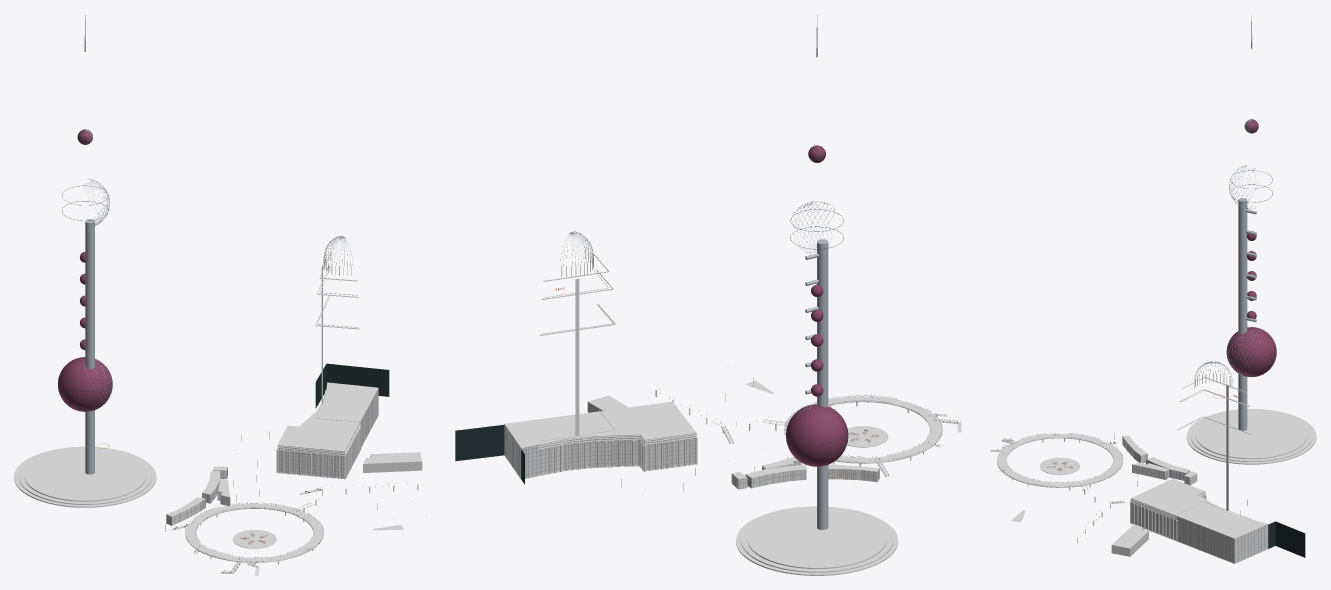
The picture shows the model from 3 angles, left to right: view 1: azimuth 30°, elevation 25°; view 2: azimuth 150°, elevation 25°; view 3: azimuth 270°, elevation 25°; orthographic projection. The views are drawn at different scales.
Parts seen in each view (by area): view 1: 0_-1_滨江浅灰石材, 0_-1_v02 深灰屋面, 0_-1_v02 米白石材, 0_-1_珍珠白 · 混凝土, 0_-1_球面 · 紫灰玻璃, 0_-1_v04 平安玫瑰白麻石, 0_-1_步行桥面 · 7m, 0_-1_v04 平安深色窗, 0_-1_v02 铝合金幕墙框, 0_-1_v02 草地, 0_-1_桥栏杆银灰; view 2: 0_-1_滨江浅灰石材, 0_-1_v02 米白石材, 0_-1_v02 深灰屋面, 0_-1_v04 平安玫瑰白麻石, 0_-1_球面 · 紫灰玻璃, 0_-1_珍珠白 · 混凝土, 0_-1_v02 铝合金幕墙框, 0_-1_步行桥面 · 7m, 0_-1_v04 平安深色窗, 0_-1_v02 草地; view 3: 0_-1_滨江浅灰石材, 0_-1_v02 米白石材, 0_-1_v02 深灰屋面, 0_-1_珍珠白 · 混凝土, 0_-1_球面 · 紫灰玻璃, 0_-1_v04 平安玫瑰白麻石, 0_-1_步行桥面 · 7m, 0_-1_v02 铝合金幕墙框, 0_-1_v04 平安深色窗, 0_-1_v02 草地, 0_-1_桥栏杆银灰.
Part boxes in pixels (<box>): 0_-1_滨江浅灰石材: <box>14,446,276,548</box>; 0_-1_v02 深灰屋面: <box>167,382,421,516</box>; 0_-1_v02 米白石材: <box>166,388,422,525</box>; 0_-1_珍珠白 · 混凝土: <box>83,15,112,474</box>; 0_-1_球面 · 紫灰玻璃: <box>58,129,112,411</box>; 0_-1_v04 平安玫瑰白麻石: <box>276,251,361,479</box>; 0_-1_步行桥面 · 7m: <box>185,503,323,562</box>; 0_-1_v04 平安深色窗: <box>315,363,389,408</box>; 0_-1_v02 铝合金幕墙框: <box>166,236,378,524</box>; 0_-1_v02 草地: <box>233,525,403,548</box>; 0_-1_桥栏杆银灰: <box>165,432,407,573</box>; 0_-1_滨江浅灰石材: <box>736,426,898,575</box>; 0_-1_v02 米白石材: <box>504,402,879,489</box>; 0_-1_v02 深灰屋面: <box>504,395,879,479</box>; 0_-1_v04 平安玫瑰白麻石: <box>538,248,697,475</box>; 0_-1_球面 · 紫灰玻璃: <box>786,145,848,466</box>; 0_-1_珍珠白 · 混凝土: <box>790,14,834,529</box>; 0_-1_v02 铝合金幕墙框: <box>504,231,878,489</box>; 0_-1_步行桥面 · 7m: <box>784,396,942,463</box>; 0_-1_v04 平安深色窗: <box>455,424,524,484</box>; 0_-1_v02 草地: <box>746,380,887,446</box>; 0_-1_滨江浅灰石材: <box>1040,409,1316,474</box>; 0_-1_v02 米白石材: <box>1111,436,1267,563</box>; 0_-1_v02 深灰屋面: <box>1112,435,1267,548</box>; 0_-1_珍珠白 · 混凝土: <box>1226,16,1259,430</box>; 0_-1_球面 · 紫灰玻璃: <box>1226,119,1276,376</box>; 0_-1_v04 平安玫瑰白麻石: <box>1129,373,1251,541</box>; 0_-1_步行桥面 · 7m: <box>997,433,1122,487</box>; 0_-1_v02 铝合金幕墙框: <box>1124,361,1268,563</box>; 0_-1_v04 平安深色窗: <box>1268,521,1305,557</box>; 0_-1_v02 草地: <box>1010,457,1079,522</box>; 0_-1_桥栏杆银灰: <box>997,433,1247,536</box>.
Size of the model in its own units: 393 by 468 by 326.
